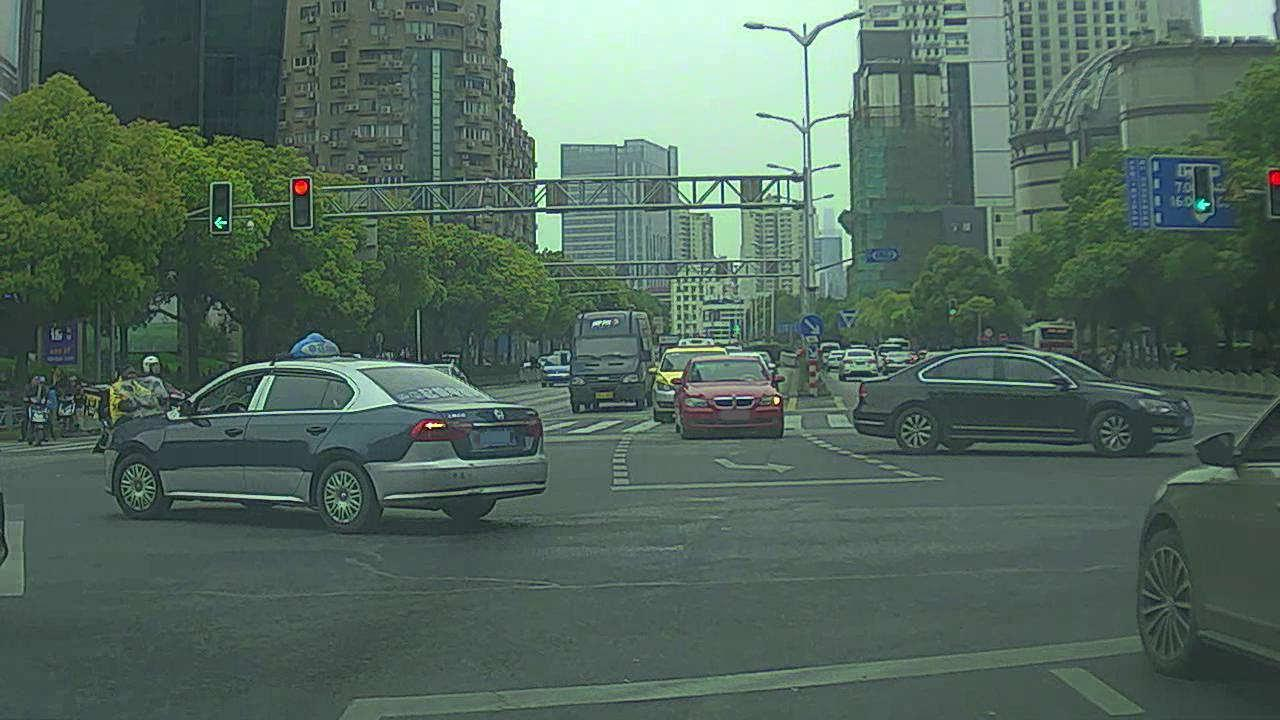traffic_light: (209, 184, 231, 233), (1193, 169, 1214, 215), (294, 176, 313, 226), (1268, 166, 1280, 218)
